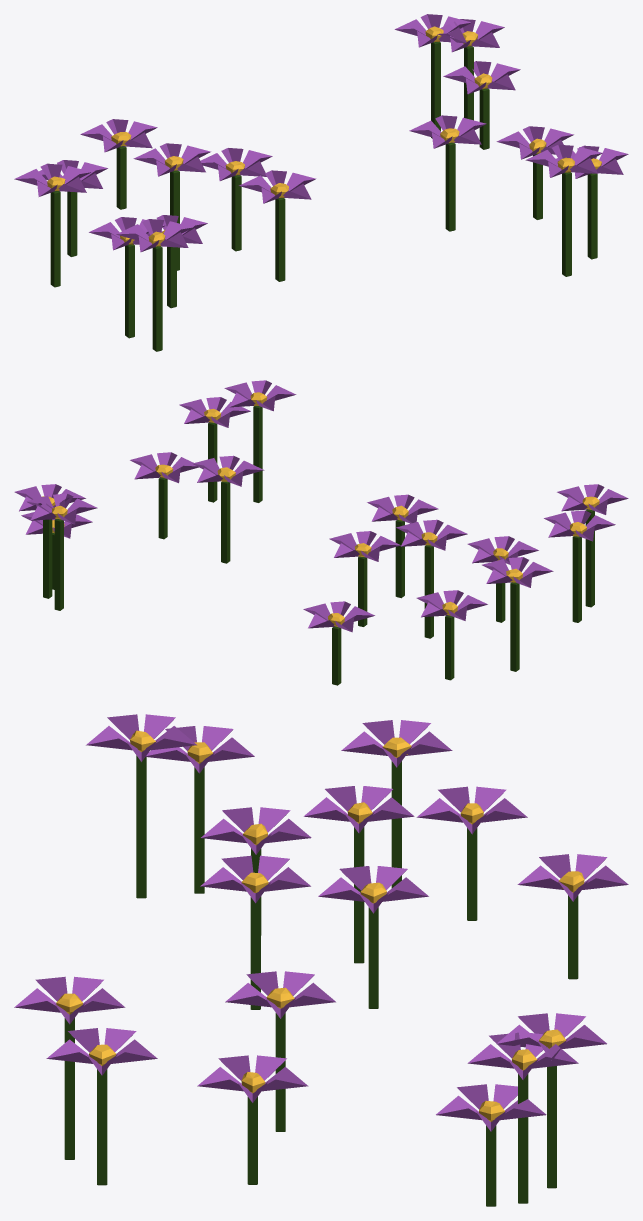
Rendered from bed_flowers_1.obj.
3 views of the same model, one above another, from view 1: azimuth 30°, elevation 25°; view 2: azimuth 150°, elevation 25°; view 3: azimuth 270°, elevation 25° (orthographic). The views are drawn at different scales.
Parts seen in each view (by area): view 1: bed_flowers_1; view 2: bed_flowers_1; view 3: bed_flowers_1.
Boxes of the visible parts, x1,y1,x2,y2 form: bed_flowers_1: (14, 14, 628, 351); bed_flowers_1: (14, 380, 628, 685); bed_flowers_1: (14, 714, 628, 1206).
Bounding box in the file's own units: 3.34 × 0.7283 × 2.41.
